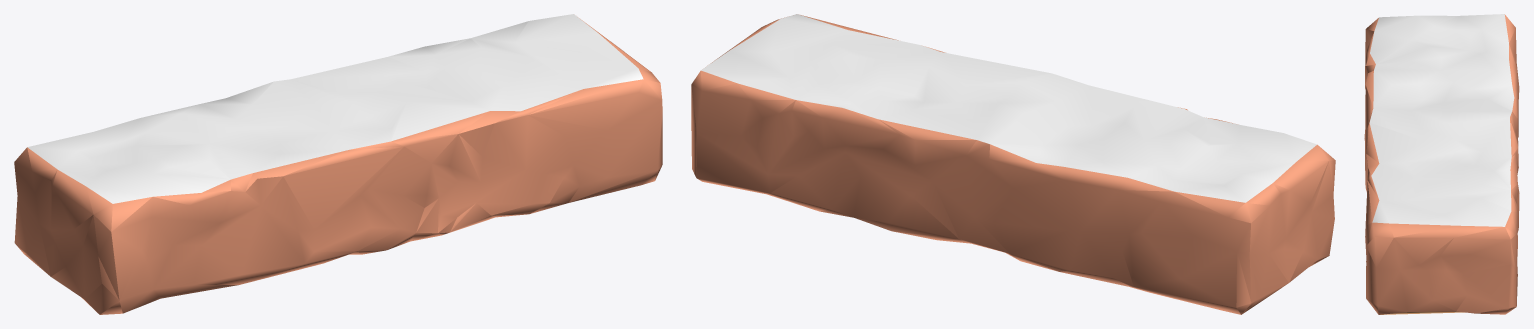
File: Brick2_fbx.fbx
3 renders of one model, left to right at view 1: azimuth 30°, elevation 25°; view 2: azimuth 150°, elevation 25°; view 3: azimuth 270°, elevation 25°, orthographic. The views are drawn at different scales.
Visible parts, largest first — view 1: Brick2; view 2: Brick2; view 3: Brick2.
Part boxes in pixels (x1,y1,x2,y2): Brick2: (14, 14, 662, 314); Brick2: (691, 14, 1335, 314); Brick2: (1364, 14, 1519, 314).
Size of the model in its own units: 1.7 by 0.3294 by 0.5049.
